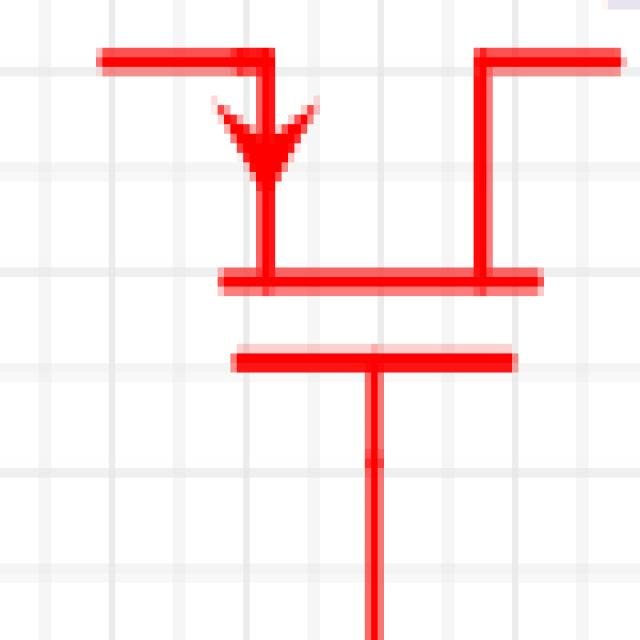pmos: (77, 14, 624, 616)
